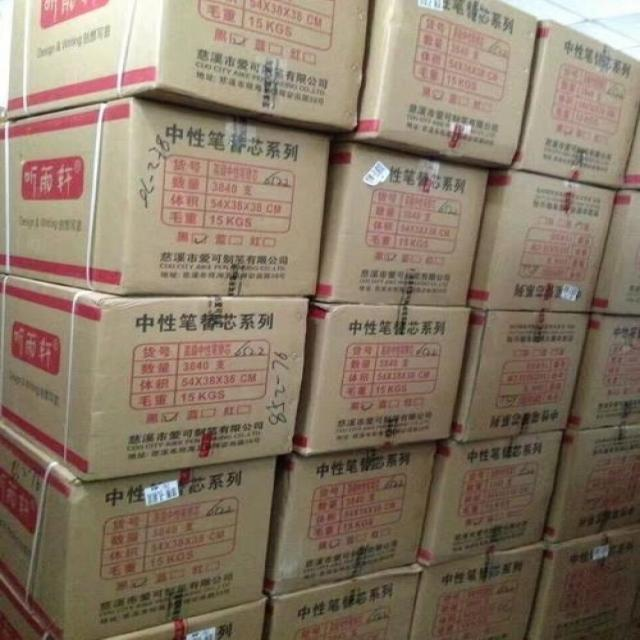box: (3, 98, 330, 297), (0, 276, 311, 482), (1, 423, 274, 639), (4, 2, 374, 143), (334, 0, 540, 171), (315, 143, 490, 305), (262, 440, 439, 597), (298, 301, 470, 455), (470, 168, 618, 315), (513, 19, 640, 190), (416, 430, 567, 568), (451, 307, 593, 444), (411, 542, 548, 638), (527, 523, 637, 639), (265, 564, 425, 640), (549, 423, 640, 543), (567, 315, 640, 430), (591, 188, 640, 318), (115, 600, 270, 639)
